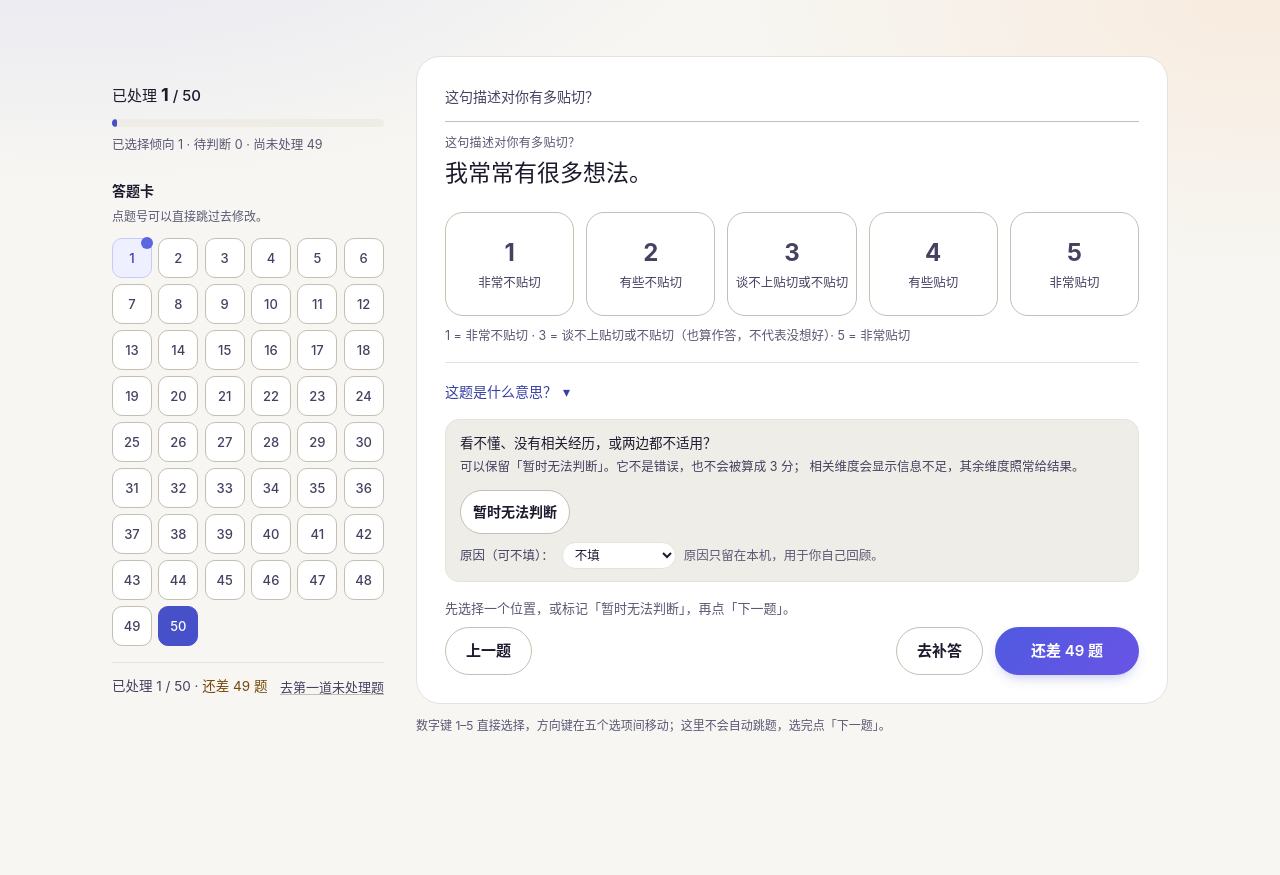
答题页（产品方案 §3.2 / §3.3） › 最后一题未处理时点「查看报告」只出现复查区（含未处理题号），不导航
This screenshot has width=1280, height=875.
最后一题仍有未处理时，主操作是「还差 N 题」（不是「查看报告」）
Click the button "还差 49 题" at [1067, 651], box [995,627,1139,675]
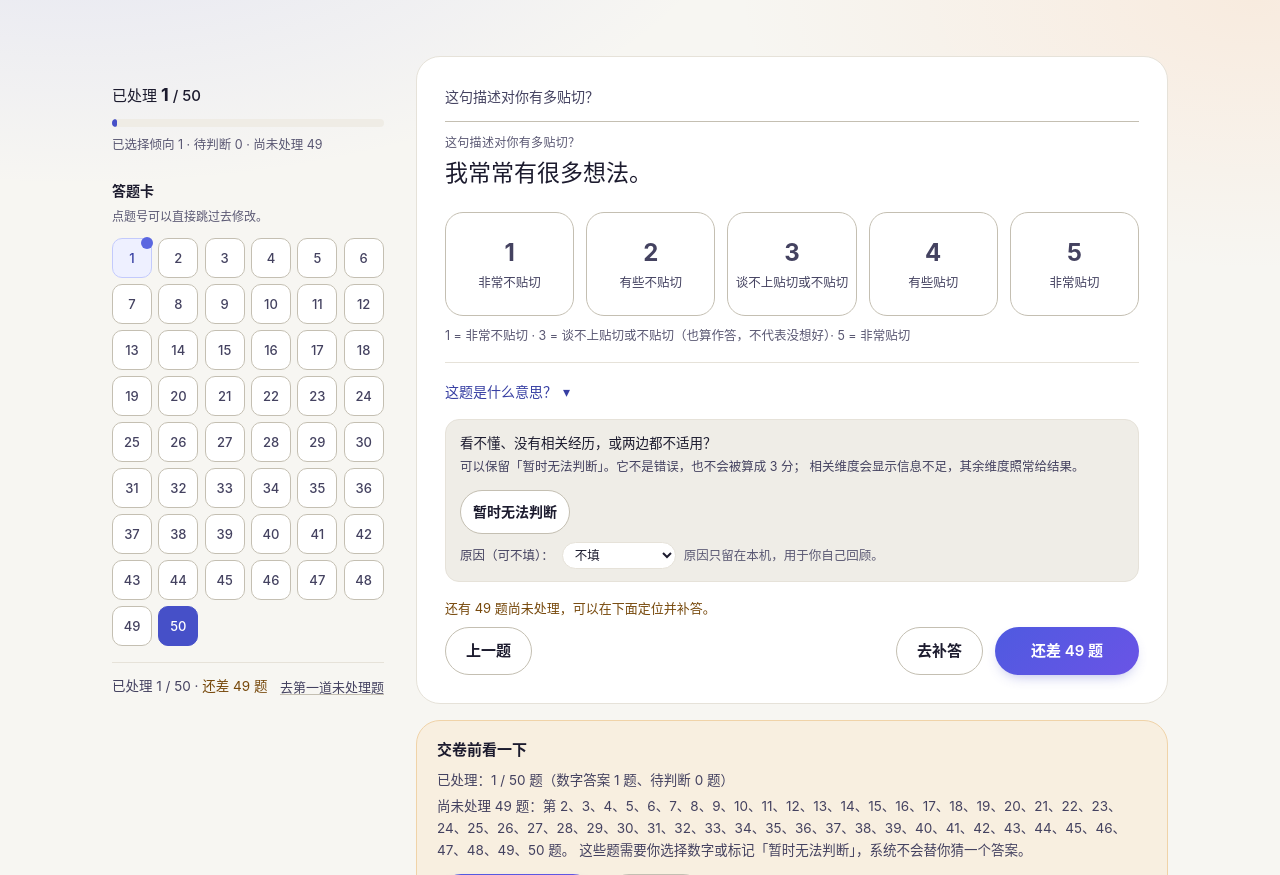
Check: the heading with id "review-heading" reads "交卷前看一下", box [437,740,527,759]
Check: the text "第 2、3、4" is shown, box [437,798,1126,858]
Check: the text "这些题需要你选择数字或标记「暂时无法判断」，系统不会替你猜一个答案。" is shown, box [437,798,1126,858]
